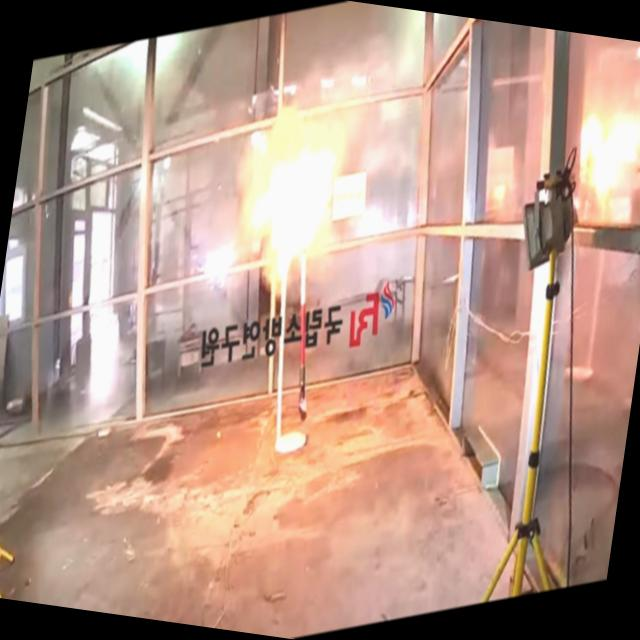fire: (222, 77, 356, 298), (563, 72, 640, 229)
